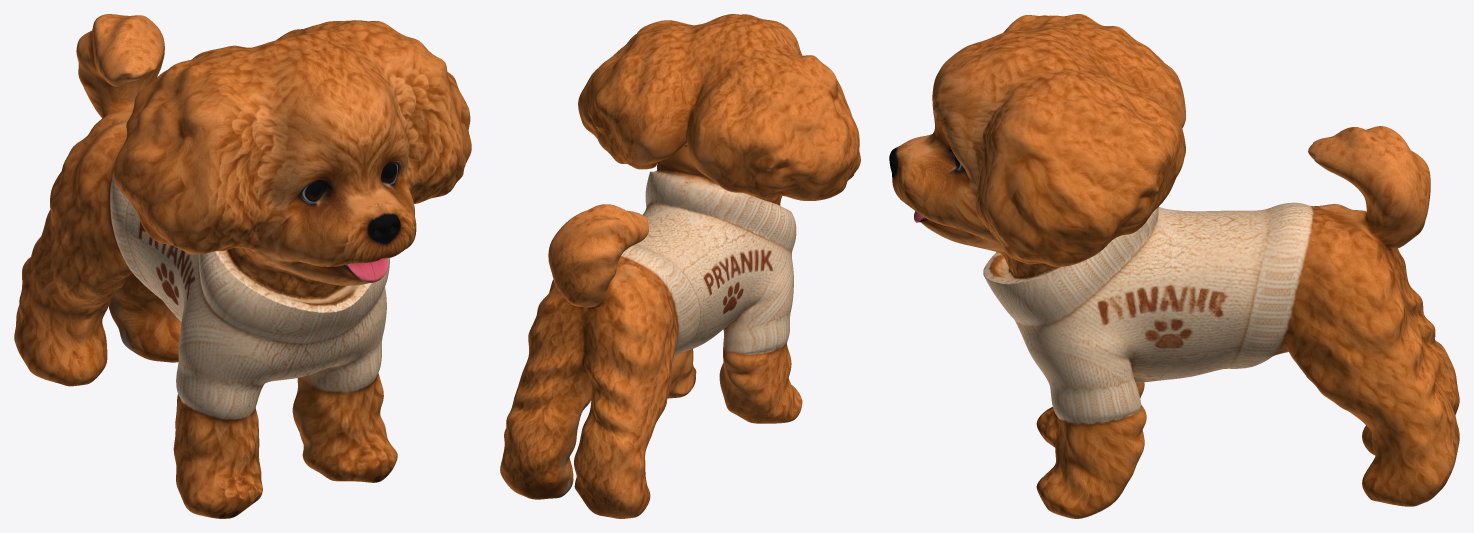
The model's file is Meshy_AI_Pryanik_the_Cozy_Pood_1108015302_texture.glb.
The picture shows the model from 3 angles, left to right: view 1: azimuth 30°, elevation 25°; view 2: azimuth 150°, elevation 25°; view 3: azimuth 270°, elevation 25°; orthographic projection. The views are drawn at different scales.
Size of the model in its own units: 1.2 by 1.61 by 1.9.
Materials: 1 (1 with a texture image).
